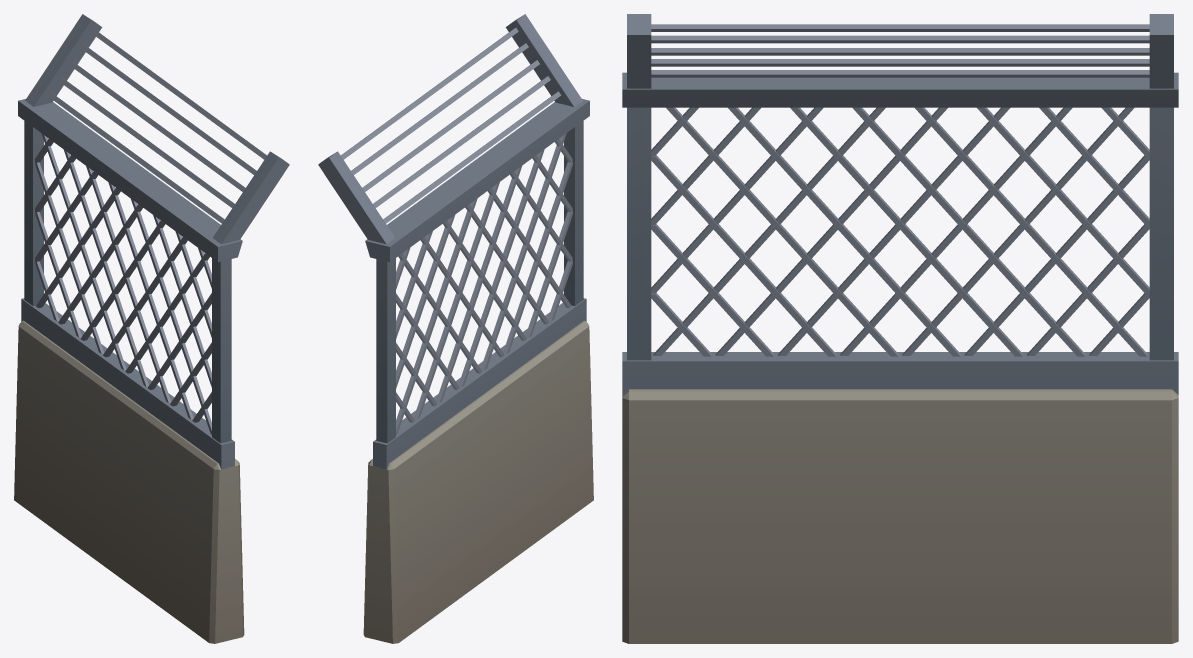
Rendered from Fence_6_2_A.glb.
3 views of the same model, side by side, from view 1: azimuth 30°, elevation 25°; view 2: azimuth 150°, elevation 25°; view 3: azimuth 270°, elevation 25° (orthographic). The views are drawn at different scales.
Parts seen in each view (by area): view 1: Fence_6_2_A; view 2: Fence_6_2_A; view 3: Fence_6_2_A.
Boxes of the visible parts, x1,y1,x2,y2 form: Fence_6_2_A: [14, 14, 289, 643]; Fence_6_2_A: [318, 14, 593, 643]; Fence_6_2_A: [622, 14, 1178, 643].
Bounding box in the file's own units: 0.6953 × 3.88 × 3.
Materials: 3 (3 with a texture image).
